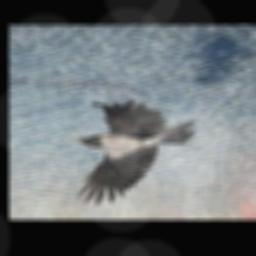Crow: (74, 102, 197, 206)
